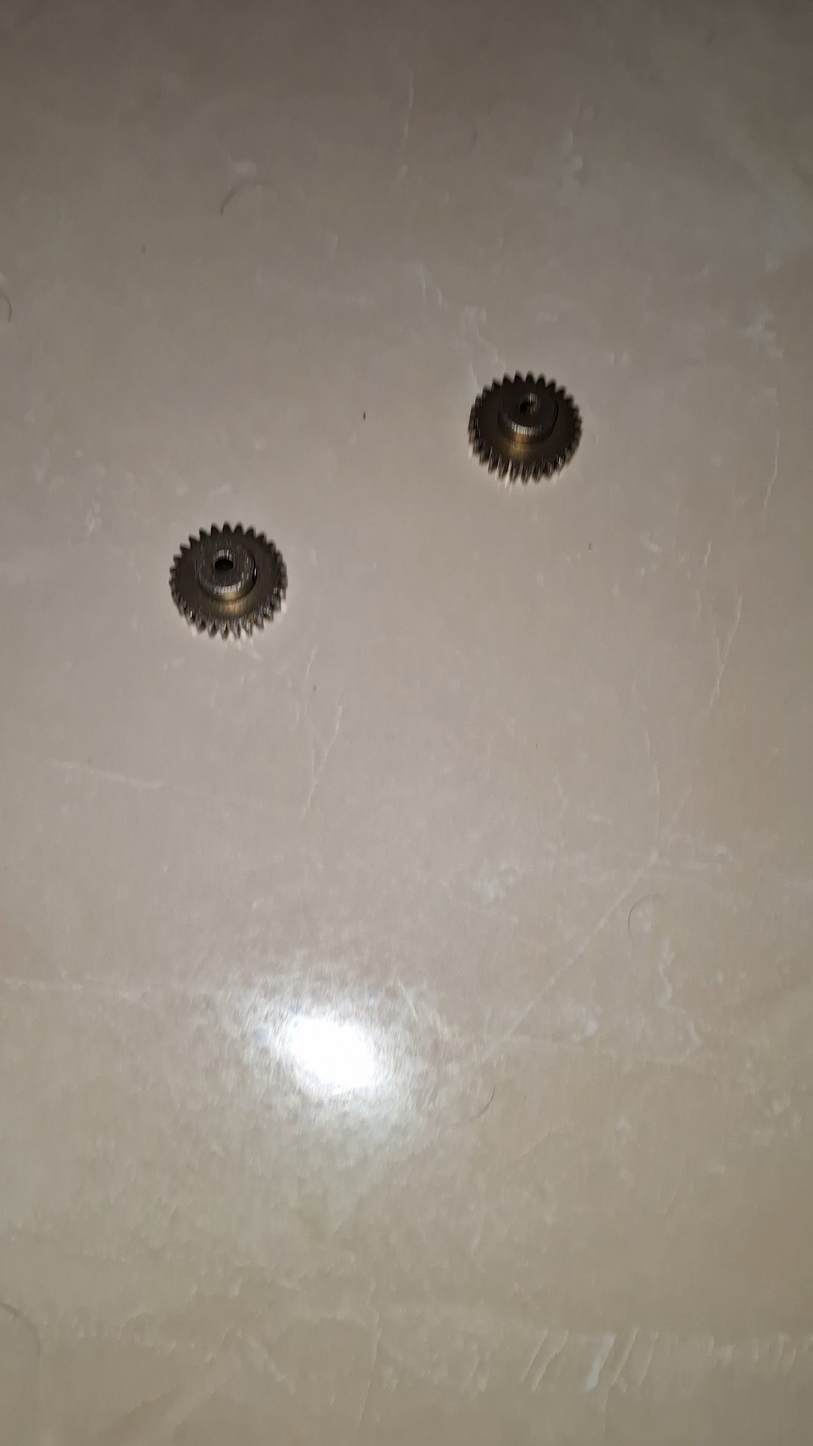spur gear: (170, 524, 287, 636), (469, 373, 581, 482)
